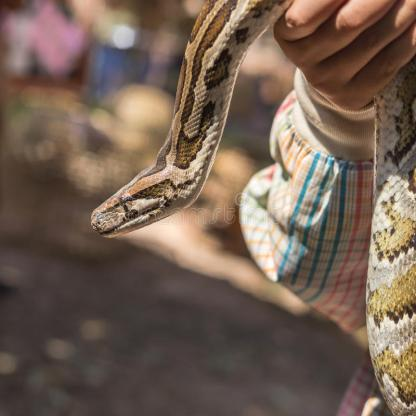Snake: (71, 0, 300, 244), (77, 161, 229, 238)
